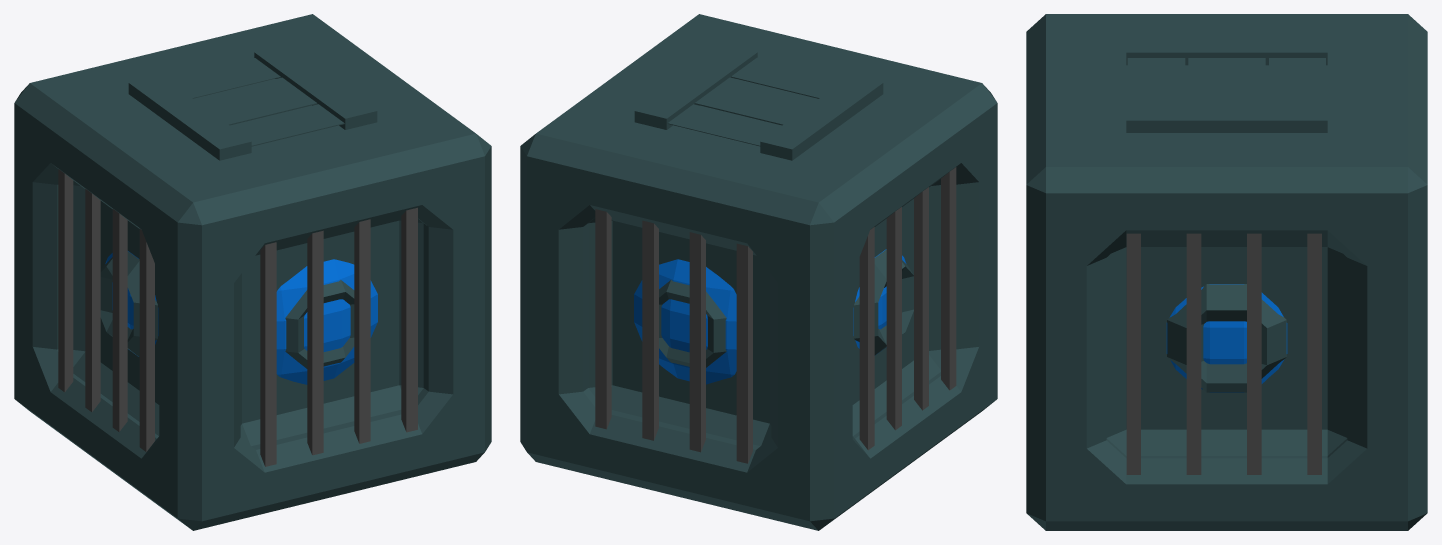
Rendered from Caja_Explosiva_Ok.fbx.
3 renders of one model, left to right at view 1: azimuth 30°, elevation 25°; view 2: azimuth 150°, elevation 25°; view 3: azimuth 270°, elevation 25°, orthographic. The views are drawn at different scales.
Visible parts, largest first — view 1: Caja, Barras, Luz; view 2: Caja, Barras, Luz; view 3: Caja, Barras, Luz.
Part boxes in pixels (x1,y1,x2,y2): Caja: [14, 14, 491, 530]; Barras: [58, 169, 417, 466]; Luz: [105, 251, 377, 384]; Caja: [520, 14, 997, 530]; Barras: [595, 167, 956, 463]; Luz: [634, 249, 906, 384]; Caja: [1026, 14, 1427, 530]; Barras: [1126, 233, 1321, 474]; Luz: [1166, 284, 1287, 392].
Size of the model in its own units: 10 by 10.67 by 10.
